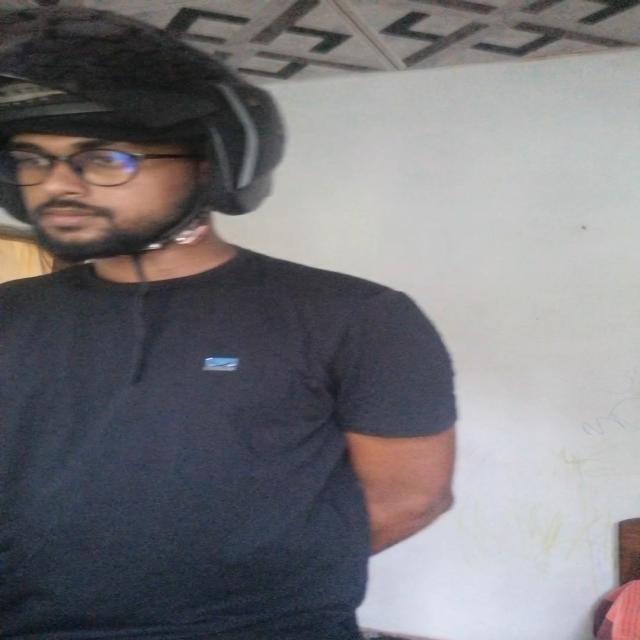Helmet_Wearer: (0, 5, 290, 302)
Person: (4, 7, 463, 640)
